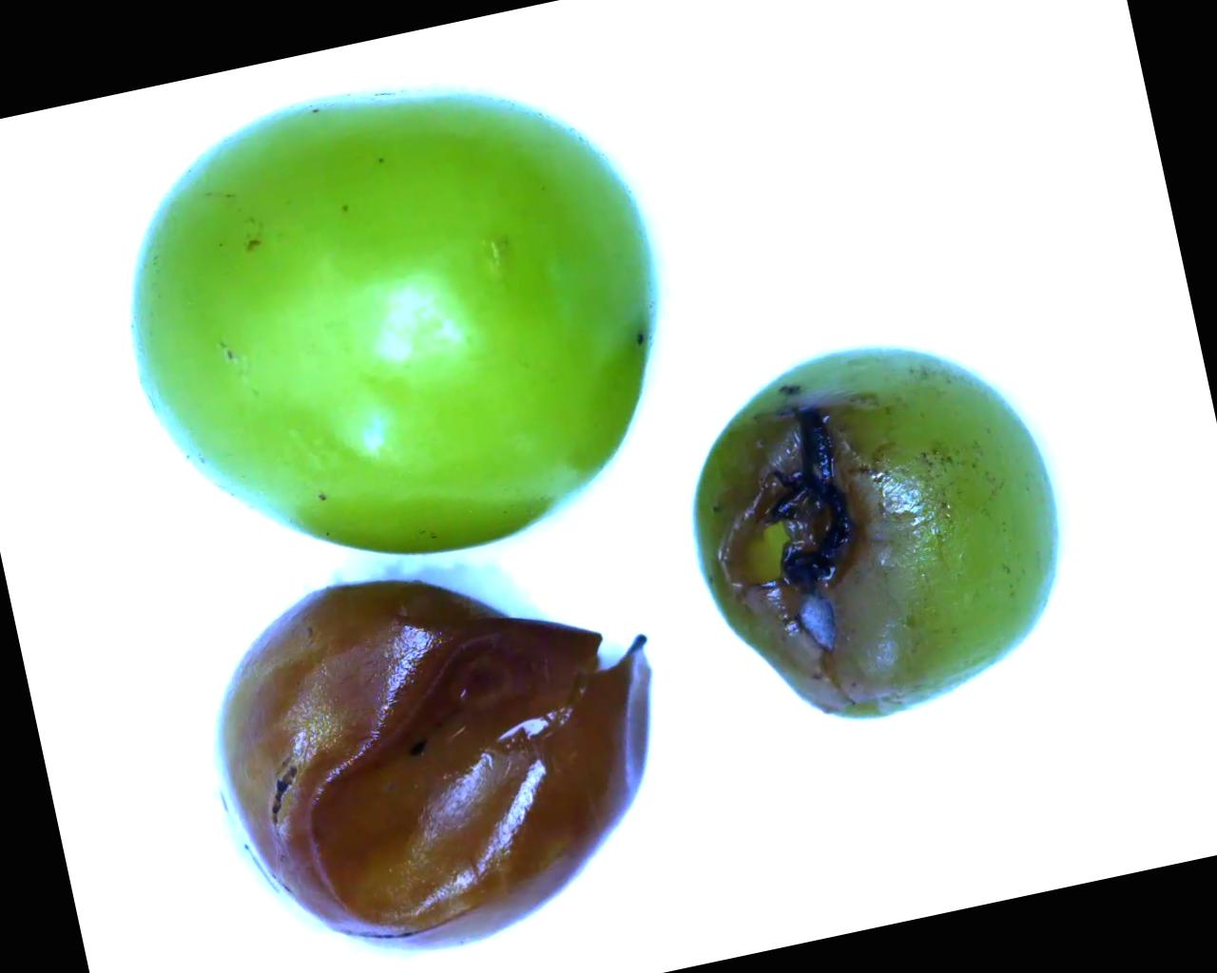Grape Rotten: (179, 518, 703, 973), (659, 309, 1094, 749)
Grape Unripe: (59, 10, 705, 555)
